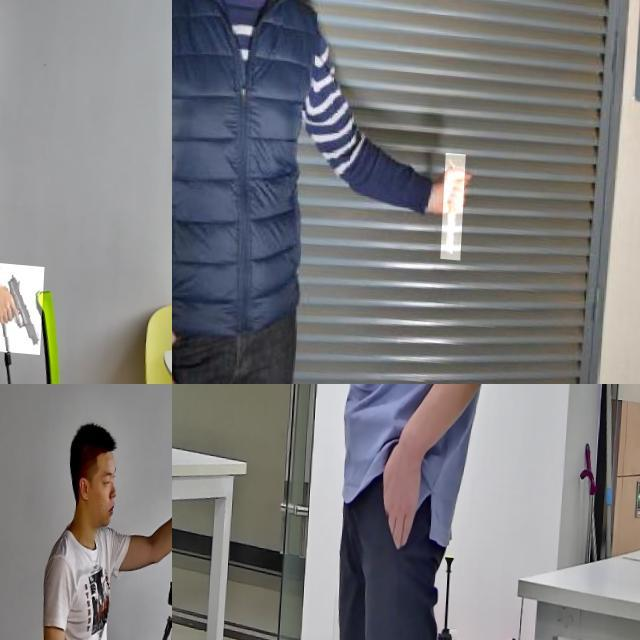-: (446, 146, 470, 254)
gun-knife-thesis - v11 Yolov5 augmented: (194, 384, 268, 454), (0, 257, 48, 348)
